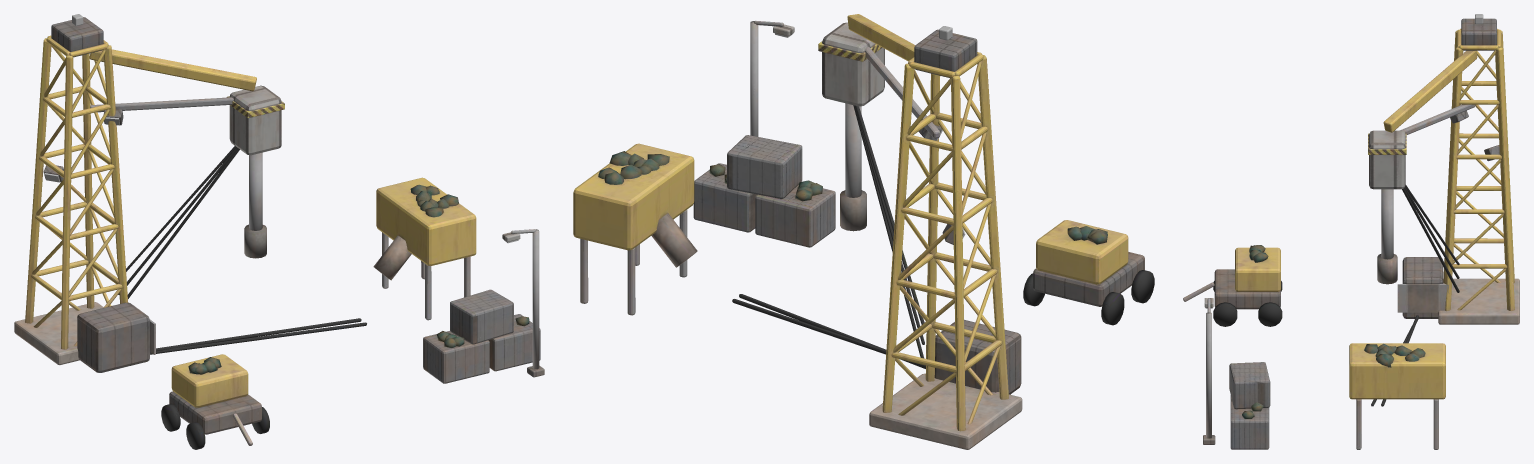
The model's file is quarry.glb.
3 renders of one model, left to right at view 1: azimuth 30°, elevation 25°; view 2: azimuth 150°, elevation 25°; view 3: azimuth 270°, elevation 25°, orthographic. The views are drawn at different scales.
Parts seen in each view (by area): view 1: quarry; view 2: quarry; view 3: quarry.
Boxes of the visible parts, bbox=[...] form: quarry: bbox=[14, 17, 544, 449]; quarry: bbox=[573, 14, 1154, 449]; quarry: bbox=[1183, 18, 1519, 449].
Size of the model in its own units: 3.78 by 3.17 by 3.31.
Materials: 2 (1 with a texture image).
